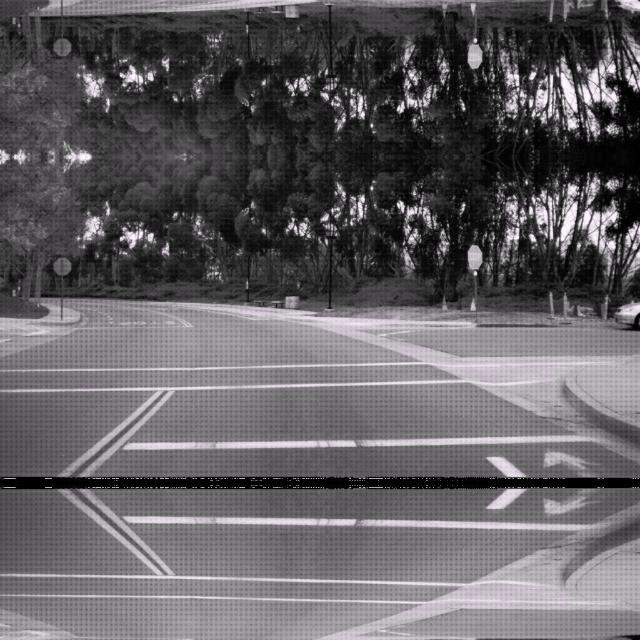stop: (467, 243, 483, 269), (467, 43, 483, 69)
